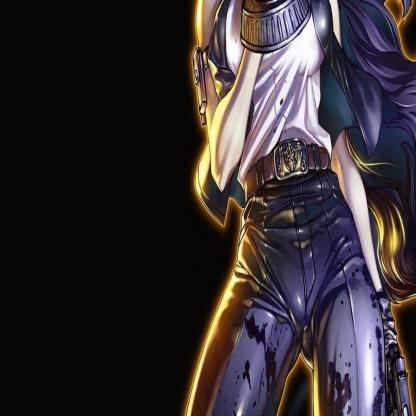gun: (379, 352, 416, 416)
